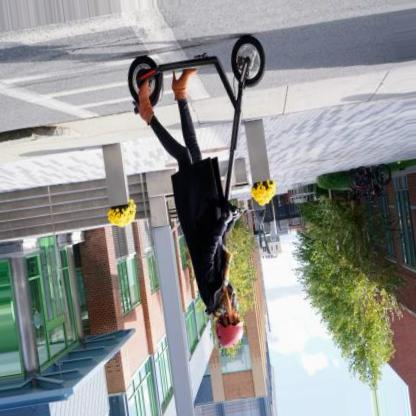scooter: (128, 35, 267, 219)
with helmet: (216, 308, 243, 351)
